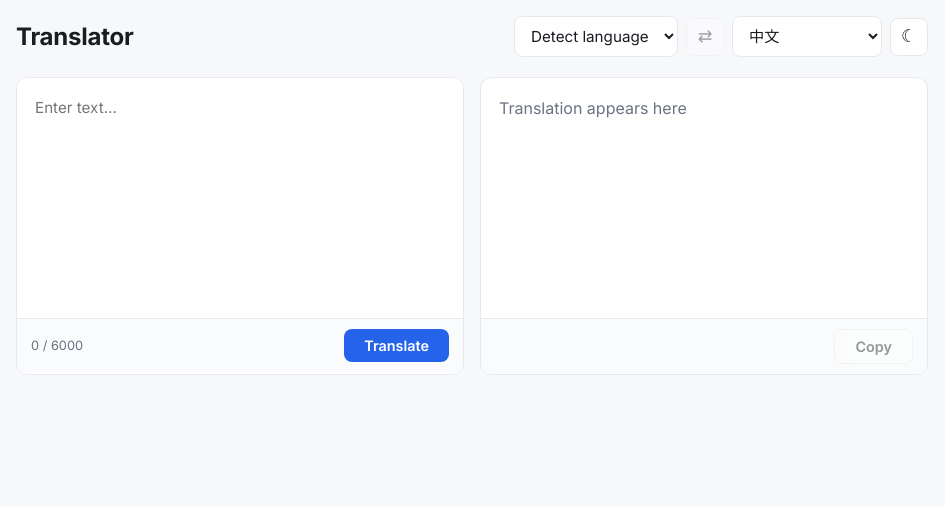
Test case: Translator › translates and shows the result + detected language
Type "Hello" into the text box with placeholder "Enter text…" at (240, 198), box x1=17 y1=78 x2=463 y2=318
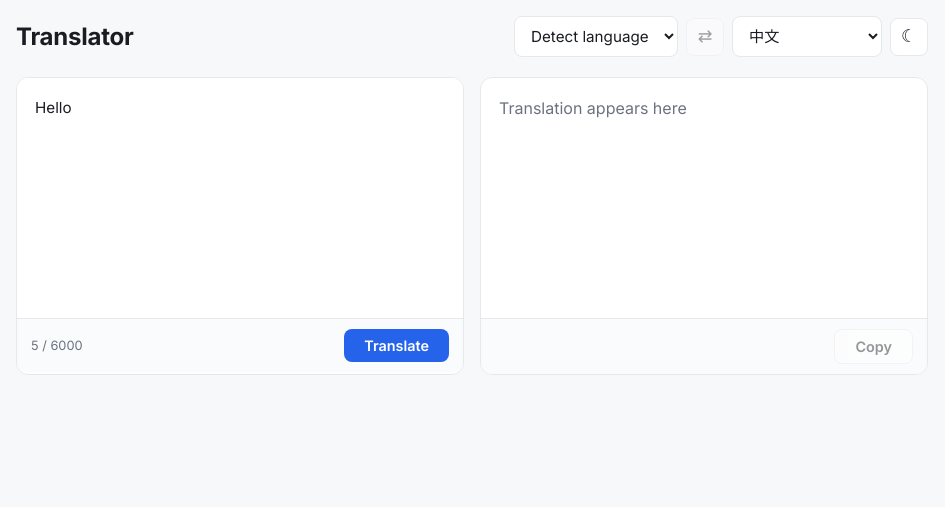
Click the button "Translate" at (397, 346), box x1=344 y1=329 x2=449 y2=362
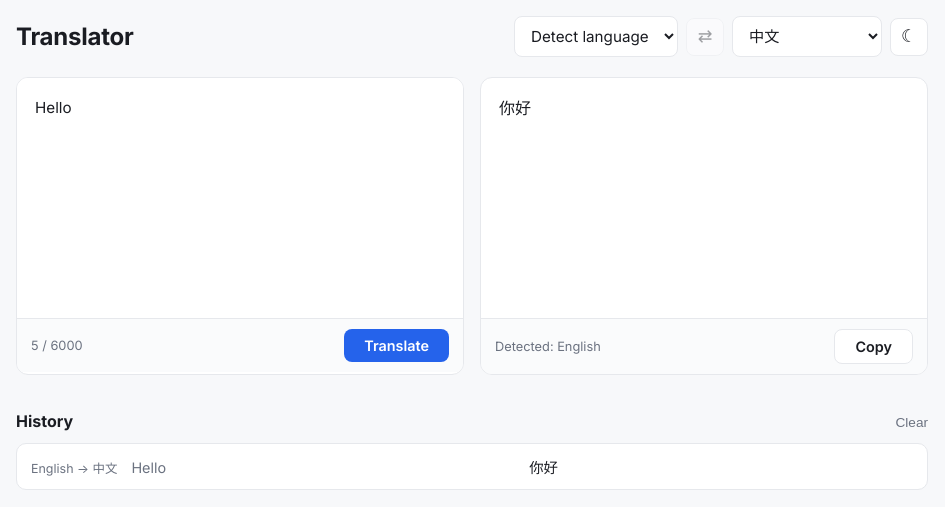
Check: the 1st text "你好" is shown, box x1=499 y1=98 x2=531 y2=118
Check: the text "Detected: English" is shown, box x1=495 y1=339 x2=601 y2=354
